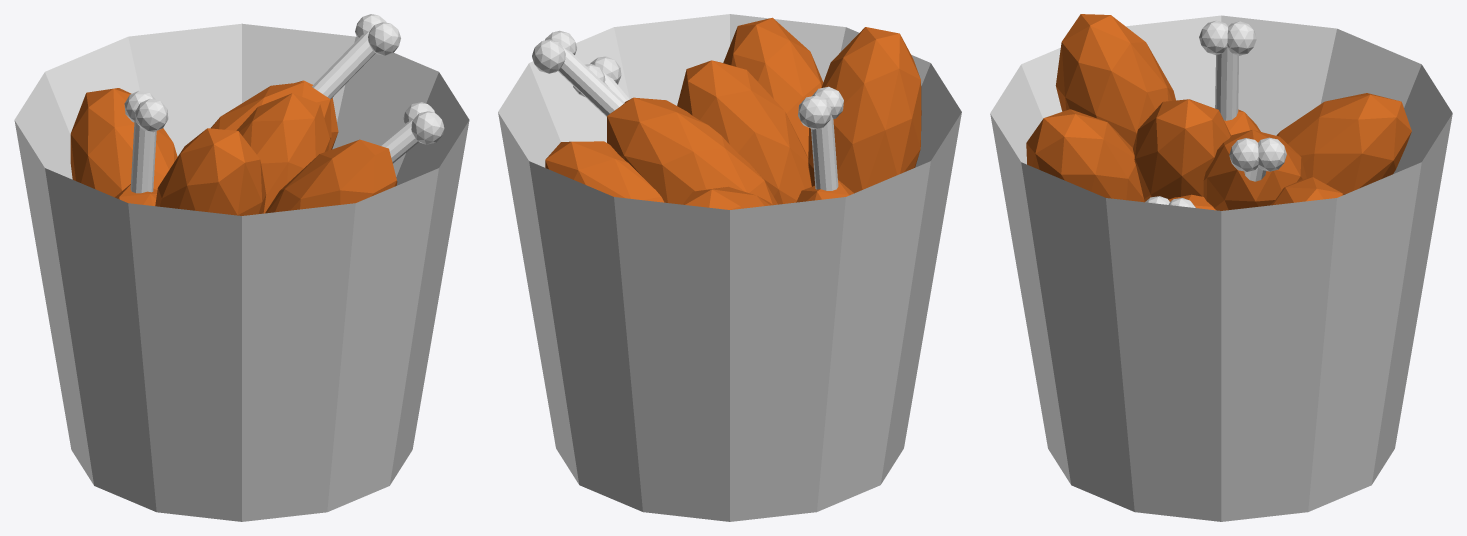
Rendered from SFCBucket.fbx.
3 views of the same model, side by side, from view 1: azimuth 30°, elevation 25°; view 2: azimuth 150°, elevation 25°; view 3: azimuth 270°, elevation 25° (orthographic).
Parts seen in each view (by area): view 1: Bucket; view 2: Bucket; view 3: Bucket.
Boxes of the visible parts, box(x1,y1,x2,y2) form: Bucket: box(14, 14, 469, 521); Bucket: box(498, 14, 961, 521); Bucket: box(990, 14, 1452, 521).
Bounding box in the file's own units: 200 × 186 × 200.
